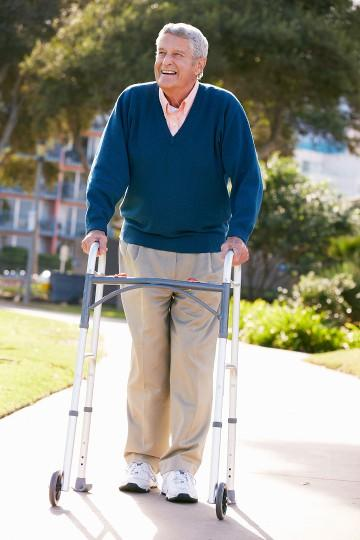walking_frame: (46, 22, 264, 521)
